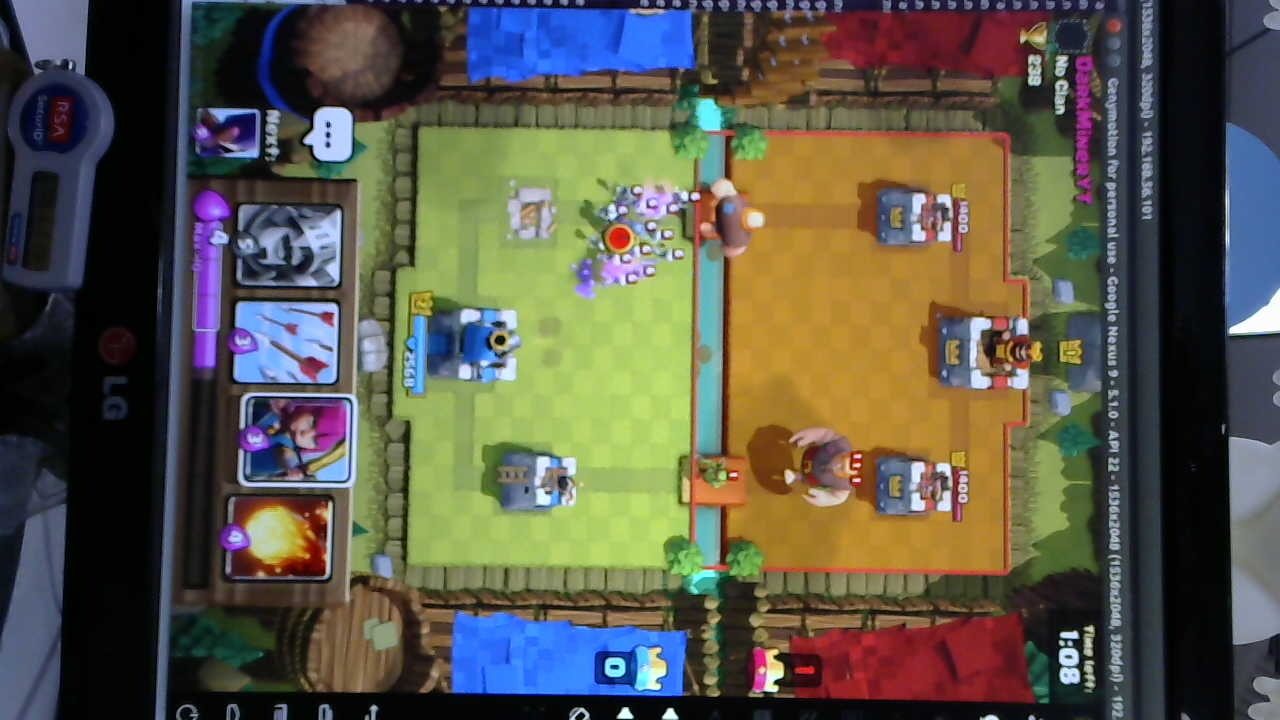skeletonarmyE: (573, 185, 695, 290)
